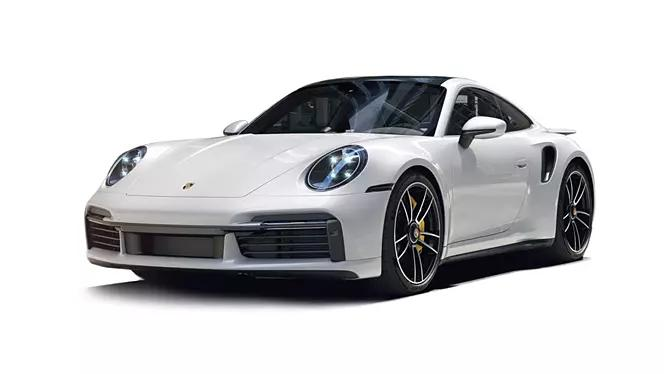porsche: (179, 178, 199, 195)
